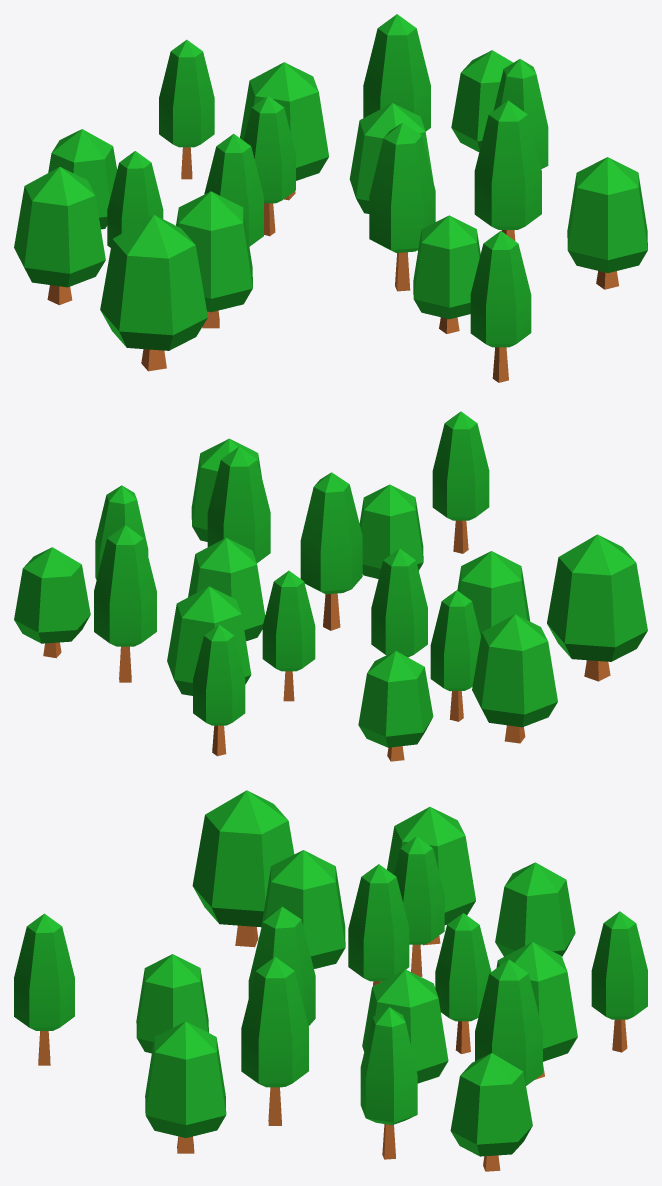
Rendered from nature_forestRiverDelta.fbx.
The picture shows the model from 3 angles, top to bottom: view 1: azimuth 30°, elevation 25°; view 2: azimuth 150°, elevation 25°; view 3: azimuth 270°, elevation 25°; orthographic projection. The views are drawn at different scales.
Parts seen in each view (by area): view 1: Forest; view 2: Forest; view 3: Forest.
Boxes of the visible parts, bbox=[...] form: Forest: bbox=[14, 14, 647, 382]; Forest: bbox=[14, 411, 647, 761]; Forest: bbox=[14, 790, 647, 1171].
Size of the model in its own units: 178 by 52.39 by 181.
